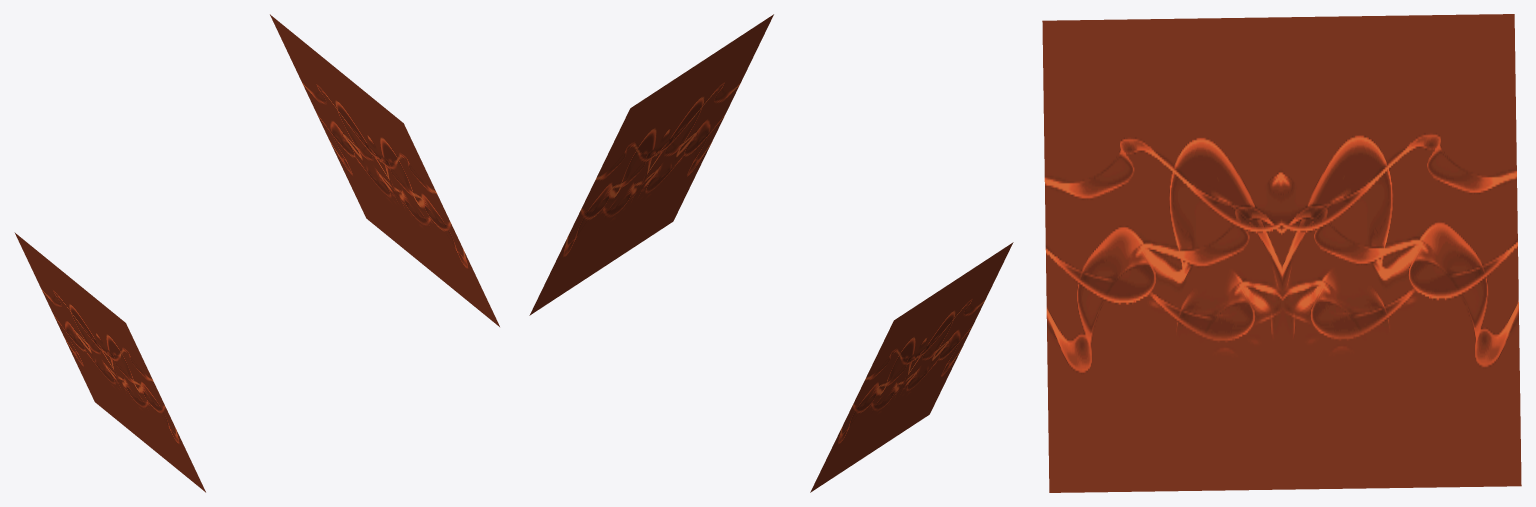
File: effect_1_2.FBX
The picture shows the model from 3 angles, left to right: view 1: azimuth 30°, elevation 25°; view 2: azimuth 150°, elevation 25°; view 3: azimuth 270°, elevation 25°; orthographic projection. The views are drawn at different scales.
Parts seen in each view (by area): view 1: effect_1_2; view 2: effect_1_2; view 3: effect_1_2.
Part boxes in pixels (x1=…): effect_1_2: x1=14, y1=14, x2=499, y2=492; effect_1_2: x1=529, y1=14, x2=1013, y2=492; effect_1_2: x1=1042, y1=14, x2=1521, y2=492.
Bounding box in the file's own units: 0.3355 × 0.3083 × 0.2264.
